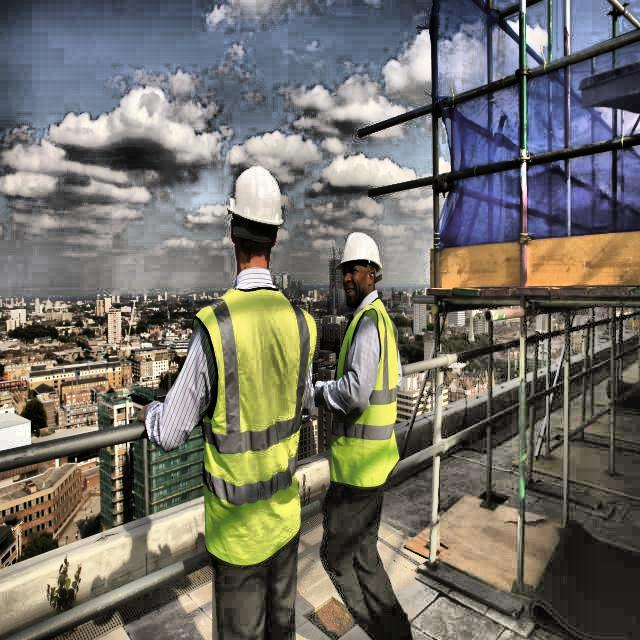person: (176, 158, 316, 640), (317, 225, 414, 639)
